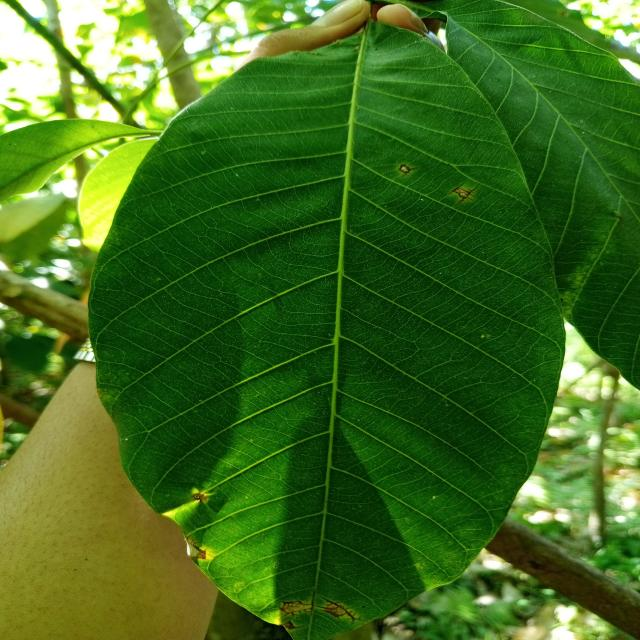Corynespora: (319, 595, 364, 624), (278, 590, 316, 618), (448, 181, 481, 206), (186, 538, 214, 559), (398, 164, 415, 177), (281, 620, 302, 630)
Leaf-Blight: (186, 542, 199, 558)
